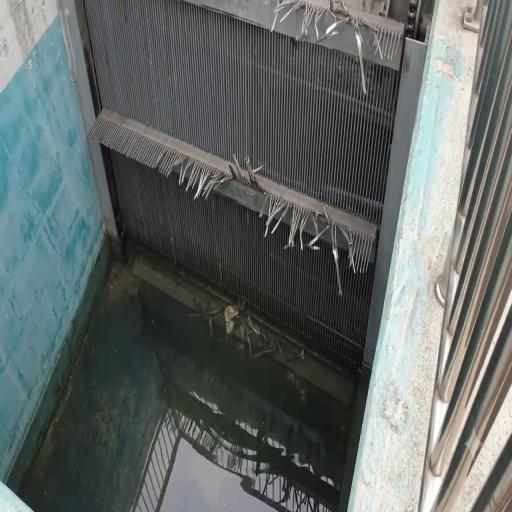rake_broken: (316, 205, 357, 301), (262, 0, 320, 56), (352, 10, 386, 98), (180, 153, 227, 211), (280, 195, 321, 259), (149, 131, 199, 182), (316, 0, 366, 50), (250, 180, 289, 238), (221, 153, 267, 201)
